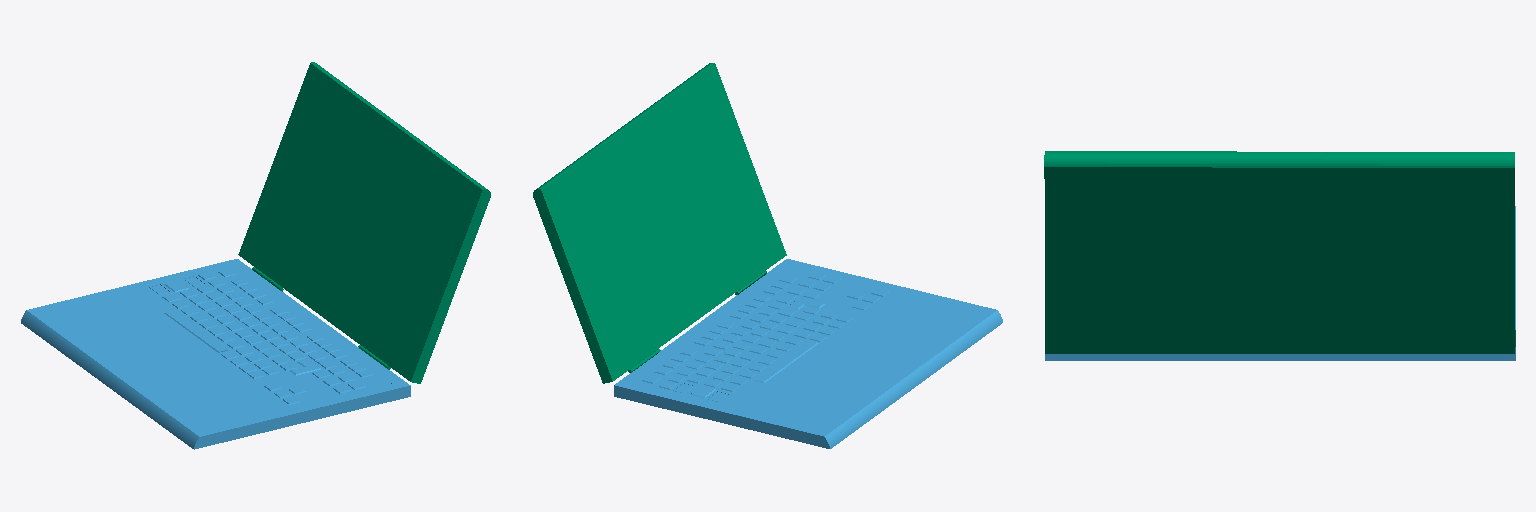
robot.urdf — partnet_2926c35f9f2b8c7556faf77ac8662d5b:
<robot name="partnet_2926c35f9f2b8c7556faf77ac8662d5b">
	<link name="base" />
	<link name="link_0">
		<collision>
			<origin xyz="0 0 0" />
			<geometry>
				<mesh filename="new_objs/10090_link_0_0.obj" />
			</geometry>
		</collision>
		<visual name="keyboard-part[&quot;id]">
			<origin xyz="0 0 0" />
			<geometry>
				<mesh filename="textured_objs/original-5.obj" />
			</geometry>
		</visual>
		<visual name="touchpad_surface-part[&quot;id]">
			<origin xyz="0 0 0" />
			<geometry>
				<mesh filename="textured_objs/new-1.obj" />
			</geometry>
		</visual>
		<visual name="button-part[&quot;id]">
			<origin xyz="0 0 0" />
			<geometry>
				<mesh filename="textured_objs/new-3.obj" />
			</geometry>
		</visual>
		<visual name="button-part[&quot;id]">
			<origin xyz="0 0 0" />
			<geometry>
				<mesh filename="textured_objs/new-2.obj" />
			</geometry>
		</visual>
		<visual name="base_frame-part[&quot;id]">
			<origin xyz="0 0 0" />
			<geometry>
				<mesh filename="textured_objs/new-4.obj" />
			</geometry>
		</visual>
		</link>
	<joint name="joint_0" type="fixed">
		<origin rpy="1.570796326794897 0 -1.570796326794897" xyz="0 0 0" />
		<child link="link_0" />
		<parent link="base" />
	</joint>
	<link name="link_1">
		<collision>
			<origin xyz="4.7027246954525665e-06 0.14511242096206708 0.18734149134110425" />
			<geometry>
				<mesh filename="new_objs/10090_link_1_0.obj" />
			</geometry>
		</collision>
		<visual name="screen-part[&quot;id]">
			<origin xyz="4.7027246954525665e-06 0.14511242096206708 0.18734149134110425" />
			<geometry>
				<mesh filename="textured_objs/new-6.obj" />
			</geometry>
		</visual>
		<visual name="screen_frame-part[&quot;id]">
			<origin xyz="4.7027246954525665e-06 0.14511242096206708 0.18734149134110425" />
			<geometry>
				<mesh filename="textured_objs/new-5.obj" />
			</geometry>
		</visual>
		<visual name="shaft-part[&quot;id]">
			<origin xyz="4.7027246954525665e-06 0.14511242096206708 0.18734149134110425" />
			<geometry>
				<mesh filename="textured_objs/original-3.obj" />
			</geometry>
		</visual>
		<visual name="shaft-part[&quot;id]">
			<origin xyz="4.7027246954525665e-06 0.14511242096206708 0.18734149134110425" />
			<geometry>
				<mesh filename="textured_objs/original-2.obj" />
			</geometry>
		</visual>
		</link>
	<joint name="joint_1" type="revolute">
		<origin xyz="-4.7027246954525665e-06 -0.14511242096206708 -0.18734149134110425" />
		<axis xyz="-0.9999999971627845 6.960173677380818e-05 -2.8810231926191804e-05" />
		<child link="link_1" />
		<parent link="link_0" />
		<limit lower="-1.9792033717615694" upper="1.0555751316061706" />
	</joint>
</robot>

--- Render facts (derived) ---
Views: 3 orthographic renders of the robot side by side, from view 1: azimuth 30°, elevation 25°; view 2: azimuth 150°, elevation 25°; view 3: azimuth 270°, elevation 25°.
Model partnet_2926c35f9f2b8c7556faf77ac8662d5b with 3 links and 2 joints (1 revolute, 1 fixed), rooted at base, posed every joint at zero.
Links seen in each view (by area): view 1: link_1, link_0; view 2: link_1, link_0; view 3: link_1, link_0.
Boxes of the visible links, x1,y1,x2,y2 form: link_1: (238,62,490,383); link_0: (21,259,410,449); link_1: (533,63,786,383); link_0: (614,259,1002,448); link_1: (1044,151,1515,353); link_0: (1045,206,1515,360).
Bounding box of the posed robot: 1.31 × 1.32 × 0.7948 m (x, y, z).
9 mesh visuals loaded from 9 distinct referenced files (9 OBJ).
